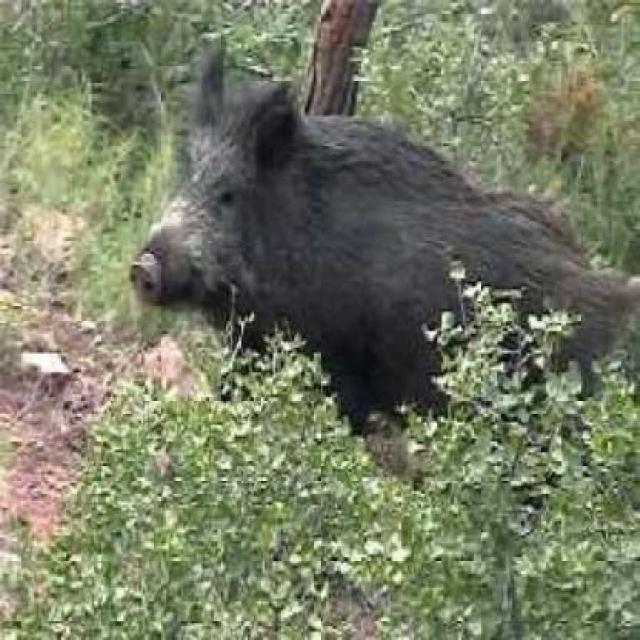pig: (146, 35, 639, 547)
